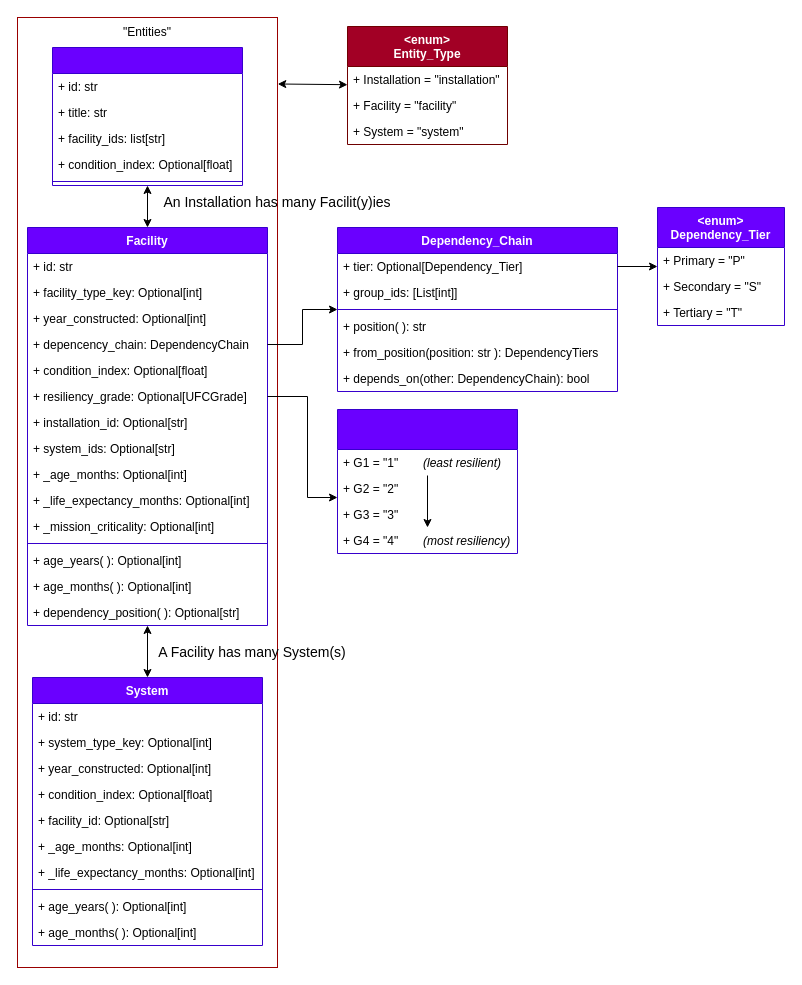
This 802x985 diagram has some shape labels left out. Here are the shapes that lost their labels. From the top down, the box of each, then its label:
(52, 46, 242, 186): Installation
(336, 408, 518, 554): <enum> UFCGrade
